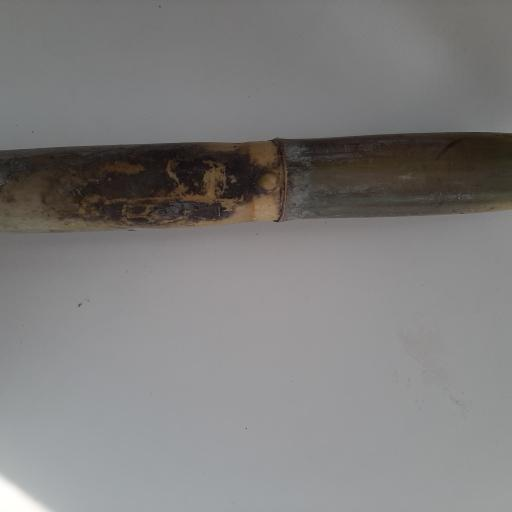Bud: (251, 170, 280, 191)
